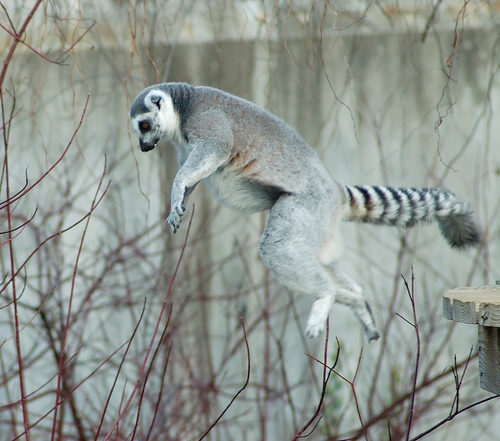cat: (129, 78, 484, 341)
